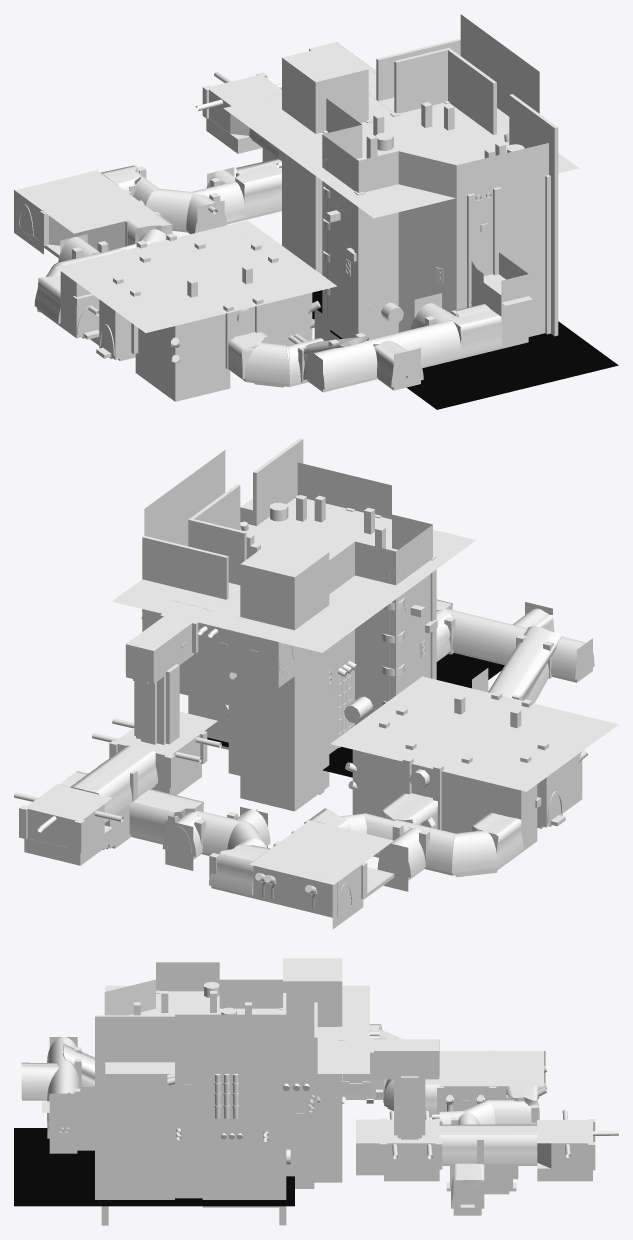
The model's file is TestLevel.fbx.
The picture shows the model from 3 angles, top to bottom: view 1: azimuth 30°, elevation 25°; view 2: azimuth 150°, elevation 25°; view 3: azimuth 270°, elevation 25°; orthographic projection. The views are drawn at different scales.
Visible parts, largest first — view 1: Plane (67), Plane (62), Cube (103)_1, Plane (60), Plane (44), Plane (40), Plane (46), Plane (74), Plane (45), Plane (50), Cube (102)_2, Cube (99)_2 (+42 smaller); view 2: Cube (103)_1, Plane (67), Plane (62), Cube (100)_2, Plane (74), Plane (48), Plane (46), Plane (50), Arch (29), Cube (99)_2, Arch (50), Plane (15) (+38 smaller); view 3: Plane (50), Cube (102)_2, Plane (60), Cube (103)_1, Plane (62), Cube (101)_2, Plane (74), Arch (29), Plane (35), Plane (41), Plane (49), Plane (46) (+26 smaller).
Boxes of the visible parts, x1,y1,x2,y2 form: Plane (67): (56,220,337,332); Plane (62): (223,72,578,218); Cube (103)_1: (282,45,368,274); Plane (60): (312,290,618,409); Plane (44): (398,151,456,332); Plane (40): (497,143,548,336); Plane (46): (322,134,358,340); Plane (74): (15,170,155,233); Plane (45): (358,151,398,338); Plane (50): (460,14,539,116); Cube (102)_2: (509,94,558,336); Cube (99)_2: (394,48,450,113); Cube (103)_1: (240,539,329,811); Plane (67): (330,676,618,791); Plane (62): (112,498,475,652); Cube (100)_2: (142,536,228,704); Plane (74): (249,820,393,884); Plane (48): (355,541,395,725); Plane (46): (396,525,432,695); Plane (50): (144,450,225,546); Arch (29): (70,745,157,821); Cube (99)_2: (188,518,246,749); Arch (50): (488,625,561,703); Plane (15): (352,749,402,815); Plane (50): (175,1014,314,1128); Cube (102)_2: (95,1015,174,1199); Plane (60): (14,1128,294,1206); Cube (103)_1: (283,958,342,1182); Plane (62): (105,985,369,1073); Cube (101)_2: (202,1128,282,1207); Plane (74): (439,1051,543,1086); Arch (29): (439,1124,537,1163); Plane (35): (49,1093,94,1150); Plane (41): (175,1128,202,1198); Plane (49): (219,979,282,1008); Plane (46): (156,962,219,991).
Size of the model in its own units: 11458 by 7049 by 17367.
Materials: 14 (3 with a texture image).
